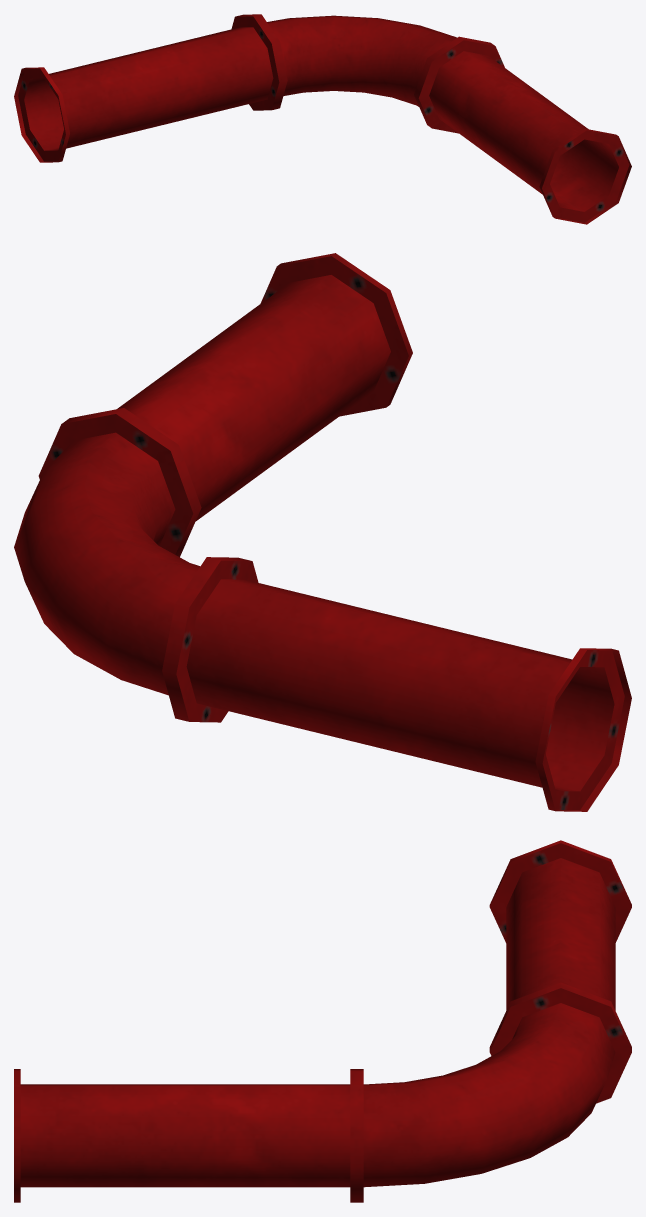
File: PipeBig_L.FBX
3 views of the same model, one above another, from view 1: azimuth 30°, elevation 25°; view 2: azimuth 150°, elevation 25°; view 3: azimuth 270°, elevation 25° (orthographic). The views are drawn at different scales.
Parts seen in each view (by area): view 1: PipeBig_L; view 2: PipeBig_L; view 3: PipeBig_L.
Part boxes in pixels (x1,y1,x2,y2): PipeBig_L: [14, 14, 631, 224]; PipeBig_L: [14, 253, 631, 811]; PipeBig_L: [14, 840, 631, 1202].
Bounding box in the file's own units: 22.24 × 5.12 × 22.24.
